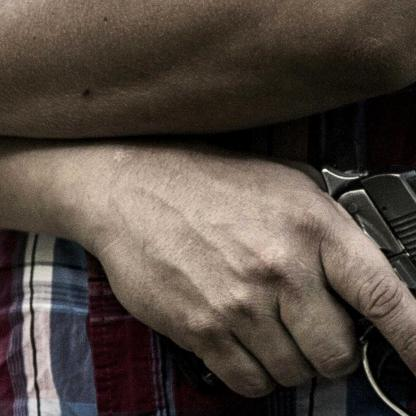gun: (320, 160, 416, 416)
